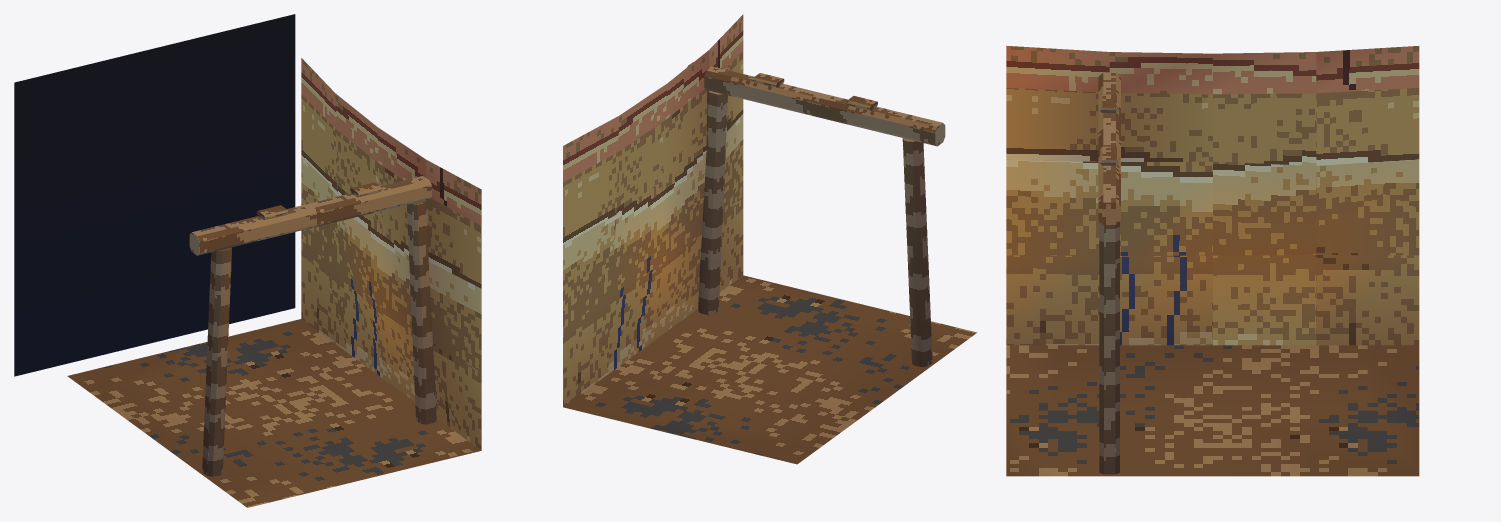
The model's file is wmine.tunnel__end_door.glb.
3 views of the same model, side by side, from view 1: azimuth 30°, elevation 25°; view 2: azimuth 150°, elevation 25°; view 3: azimuth 270°, elevation 25° (orthographic). The views are drawn at different scales.
Visible parts, largest first — view 1: kit_card_depth, kit_shell_walls, kit_shell_floor, kit_sets, kit_caps, kit_wedges; view 2: kit_shell_walls, kit_shell_floor, kit_sets, kit_caps, kit_wedges; view 3: kit_shell_walls, kit_shell_floor, kit_sets, kit_caps, kit_wedges.
Part boxes in pixels (x1,y1,x2,y2): kit_card_depth: (14,14,295,376); kit_shell_walls: (301,58,481,450); kit_shell_floor: (67,319,481,507); kit_sets: (202,200,436,476); kit_caps: (189,176,431,255); kit_wedges: (256,182,381,220); kit_shell_walls: (563,14,743,406); kit_shell_floor: (563,275,977,464); kit_sets: (698,90,932,367); kit_caps: (687,62,945,146); kit_wedges: (752,73,877,110); kit_shell_walls: (1006,45,1419,345); kit_shell_floor: (1006,345,1419,476); kit_sets: (1099,222,1119,474); kit_caps: (1098,72,1120,224); kit_wedges: (1100,94,1118,165).
Size of the model in its own units: 3.6 by 3.6 by 4.65.
6 materials, 6 textured.
